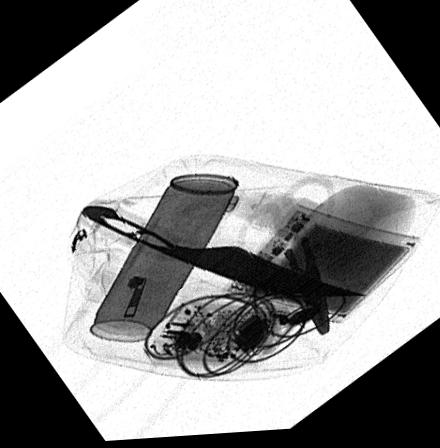Knife: (85, 207, 371, 301)
Powerbank: (224, 209, 423, 328)
Scissors: (233, 181, 335, 343)
